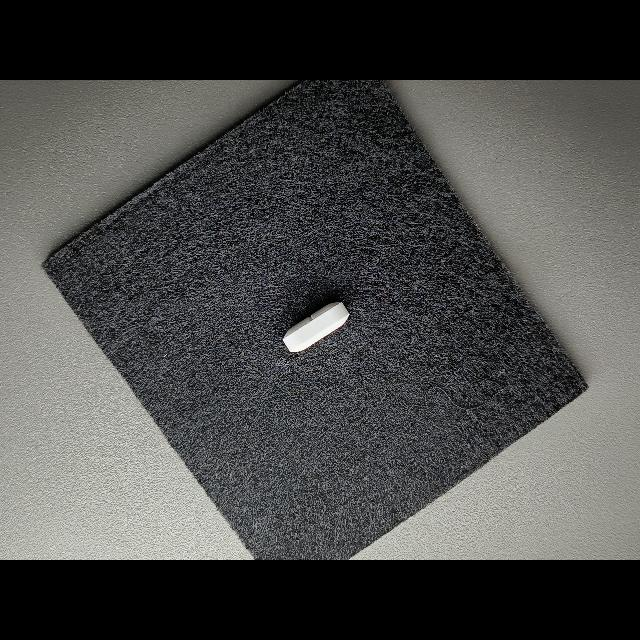Intact Pill: (282, 302, 350, 352)
